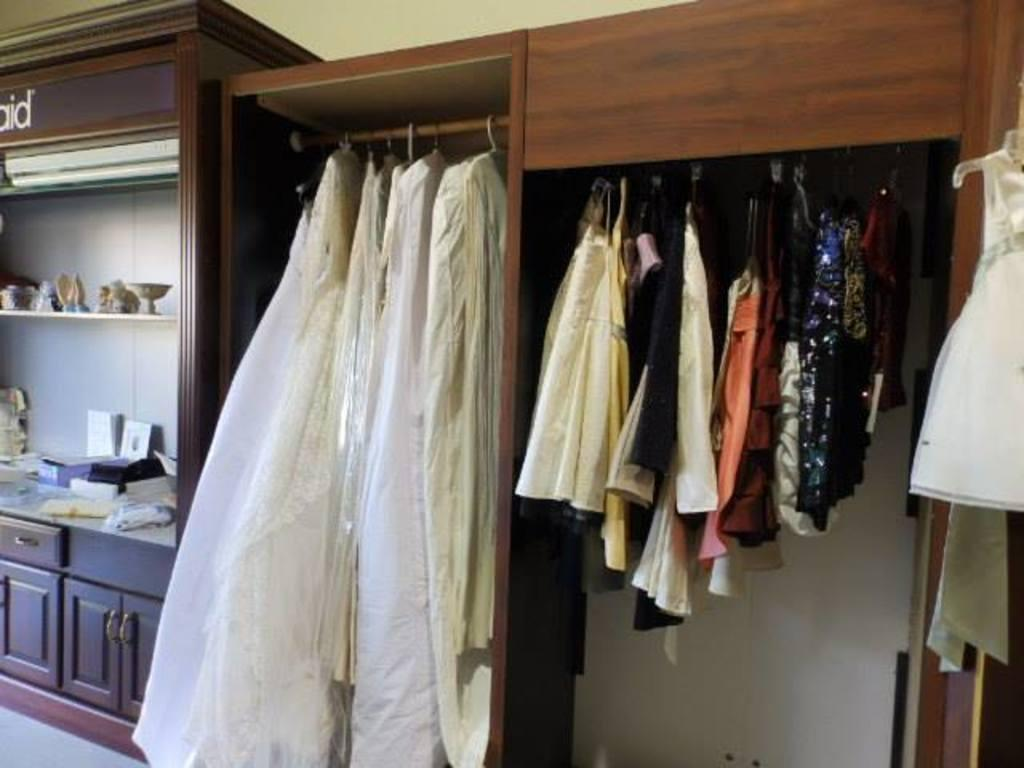cabinet_door: (60, 578, 122, 693), (118, 603, 176, 720), (0, 515, 62, 572)
handle: (116, 603, 137, 655), (102, 602, 120, 648), (12, 532, 38, 550)
